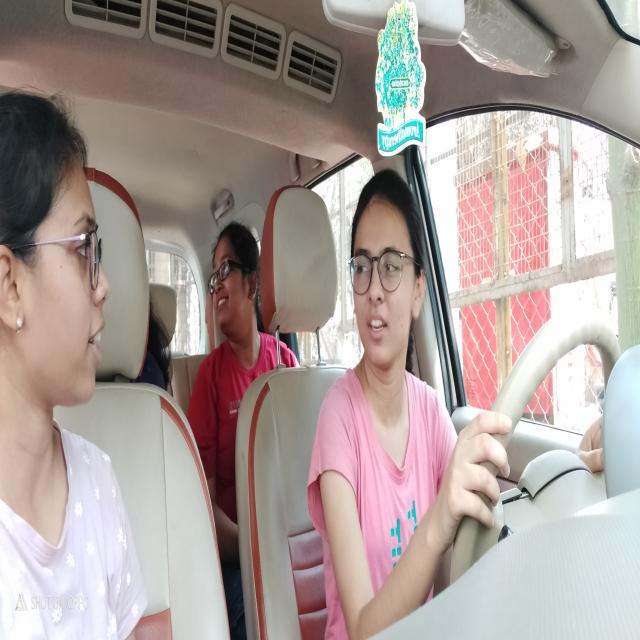LeftRight: (4, 120, 110, 404), (346, 195, 427, 366)
person: (207, 243, 254, 340)
talking: (88, 324, 108, 364), (363, 311, 391, 337)
